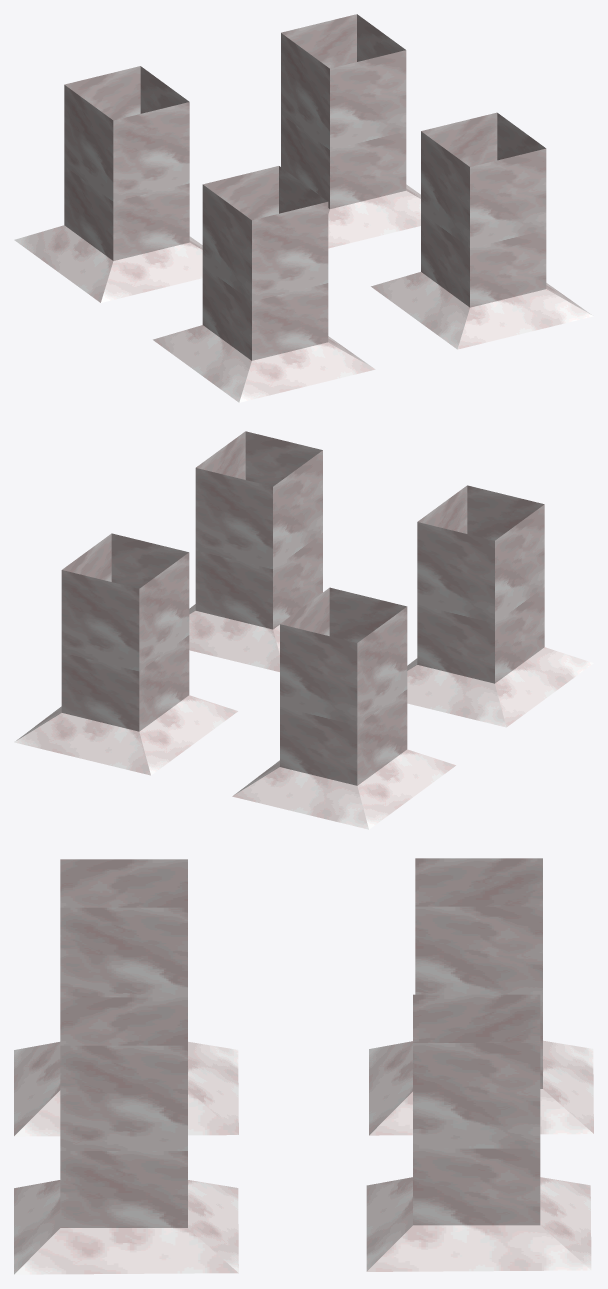
File: Juweller_Elefant_Foot_2884.glb
The picture shows the model from 3 angles, top to bottom: view 1: azimuth 30°, elevation 25°; view 2: azimuth 150°, elevation 25°; view 3: azimuth 270°, elevation 25°; orthographic projection. The views are drawn at different scales.
Parts seen in each view (by area): view 1: _______________out002F; view 2: _______________out002F; view 3: _______________out002F.
Part boxes in pixels (x1,y1,x2,y2): _______________out002F: (14,14,593,402); _______________out002F: (14,431,593,829); _______________out002F: (14,858,593,1274).
Size of the model in its own units: 0.158 by 0.0685 by 0.1715.
1 material, 1 textured.
